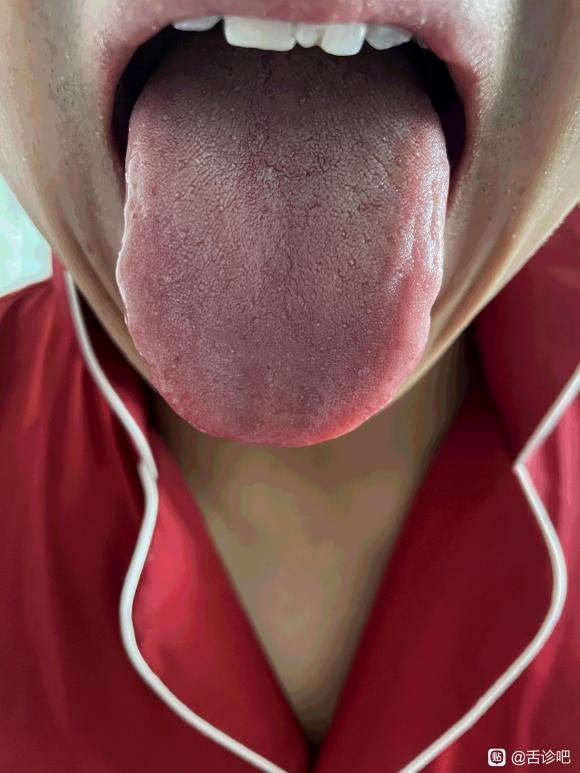baitaishe: (115, 45, 450, 448)
